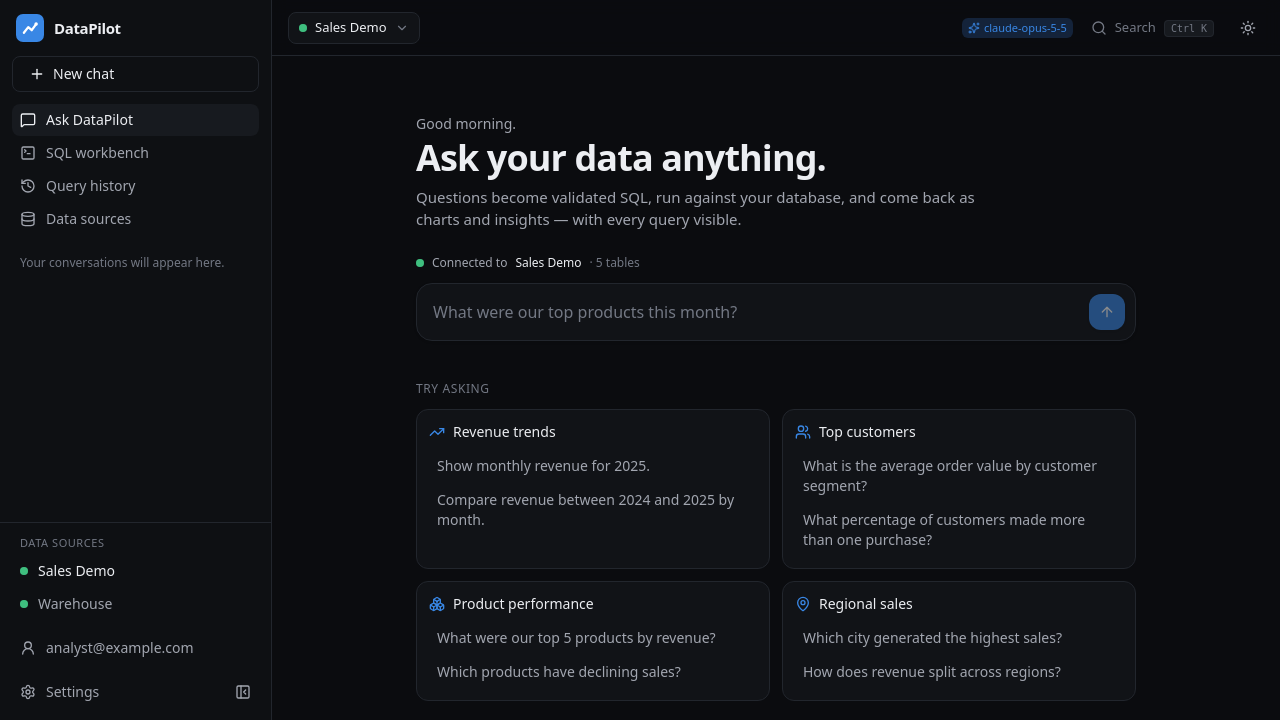
Test case: chat workspace › shows a clear error when the stream reports a failure
Type "Revenue by city" into the text box named "Ask a question" at (757, 312), box [433,294,1081,330]
Then press Enter
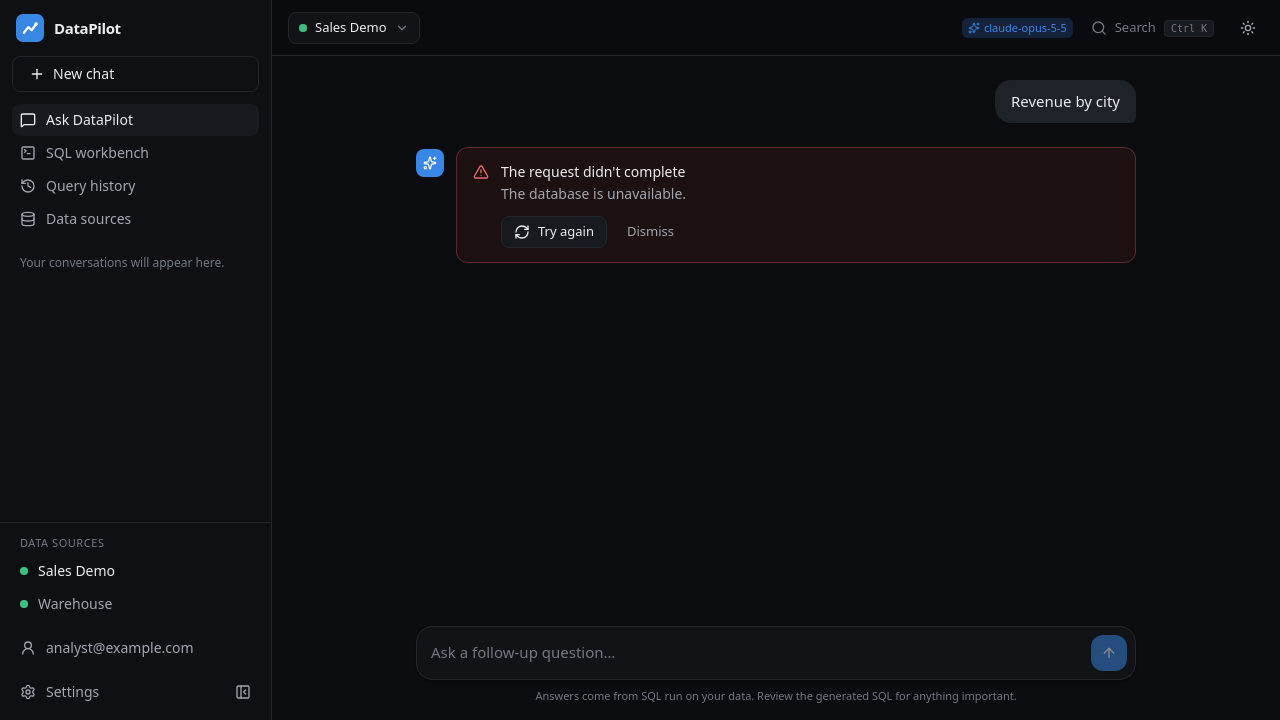
Now the message shows "The database is unavailable.", box [501,184,686,202]
Now the button "Try again" is shown, box [501,216,607,248]
